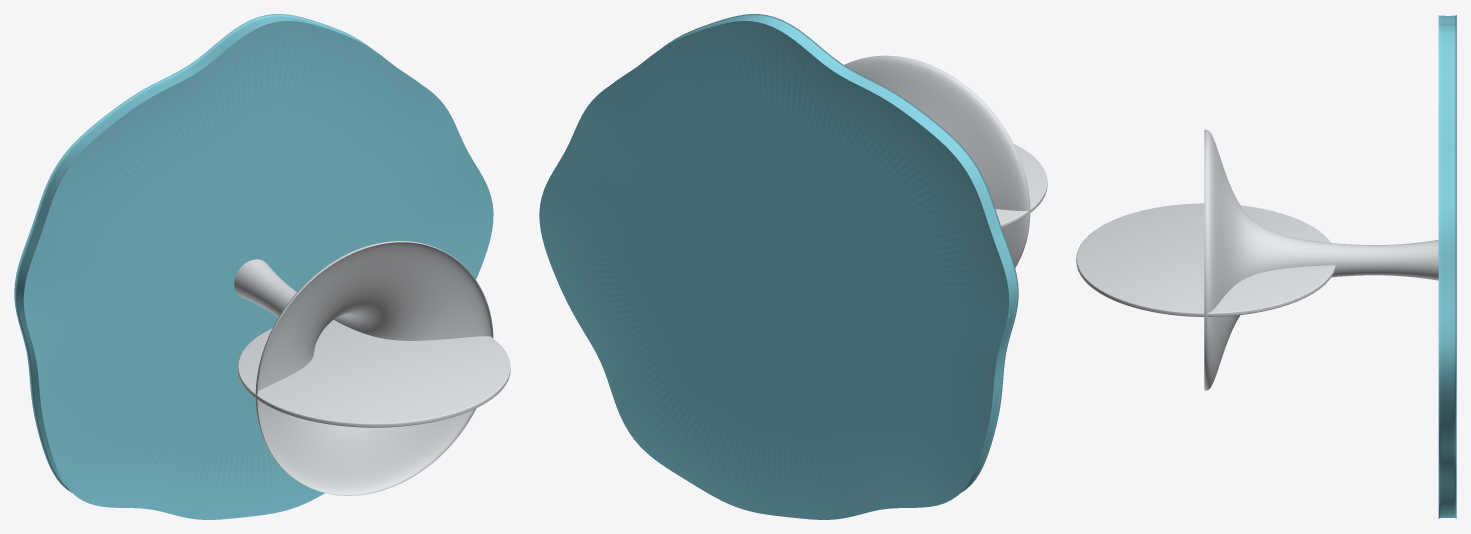
Rendered from table.glb.
3 renders of one model, left to right at view 1: azimuth 30°, elevation 25°; view 2: azimuth 150°, elevation 25°; view 3: azimuth 270°, elevation 25°, orthographic. The views are drawn at different scales.
Visible parts, largest first — view 1: ResinTop, Pedestal, BaseCap; view 2: ResinTop, Pedestal, BaseCap; view 3: BaseCap, Pedestal, ResinTop.
Part boxes in pixels (bbox=[...]): ResinTop: bbox=[14, 14, 493, 519]; Pedestal: bbox=[234, 241, 493, 495]; BaseCap: bbox=[237, 320, 510, 427]; ResinTop: bbox=[539, 14, 1018, 519]; Pedestal: bbox=[844, 55, 1030, 267]; BaseCap: bbox=[995, 144, 1047, 227]; BaseCap: bbox=[1076, 203, 1335, 316]; Pedestal: bbox=[1204, 129, 1438, 390]; ResinTop: bbox=[1438, 15, 1456, 518].
Size of the model in its own units: 1.57 by 1.57 by 1.15.
